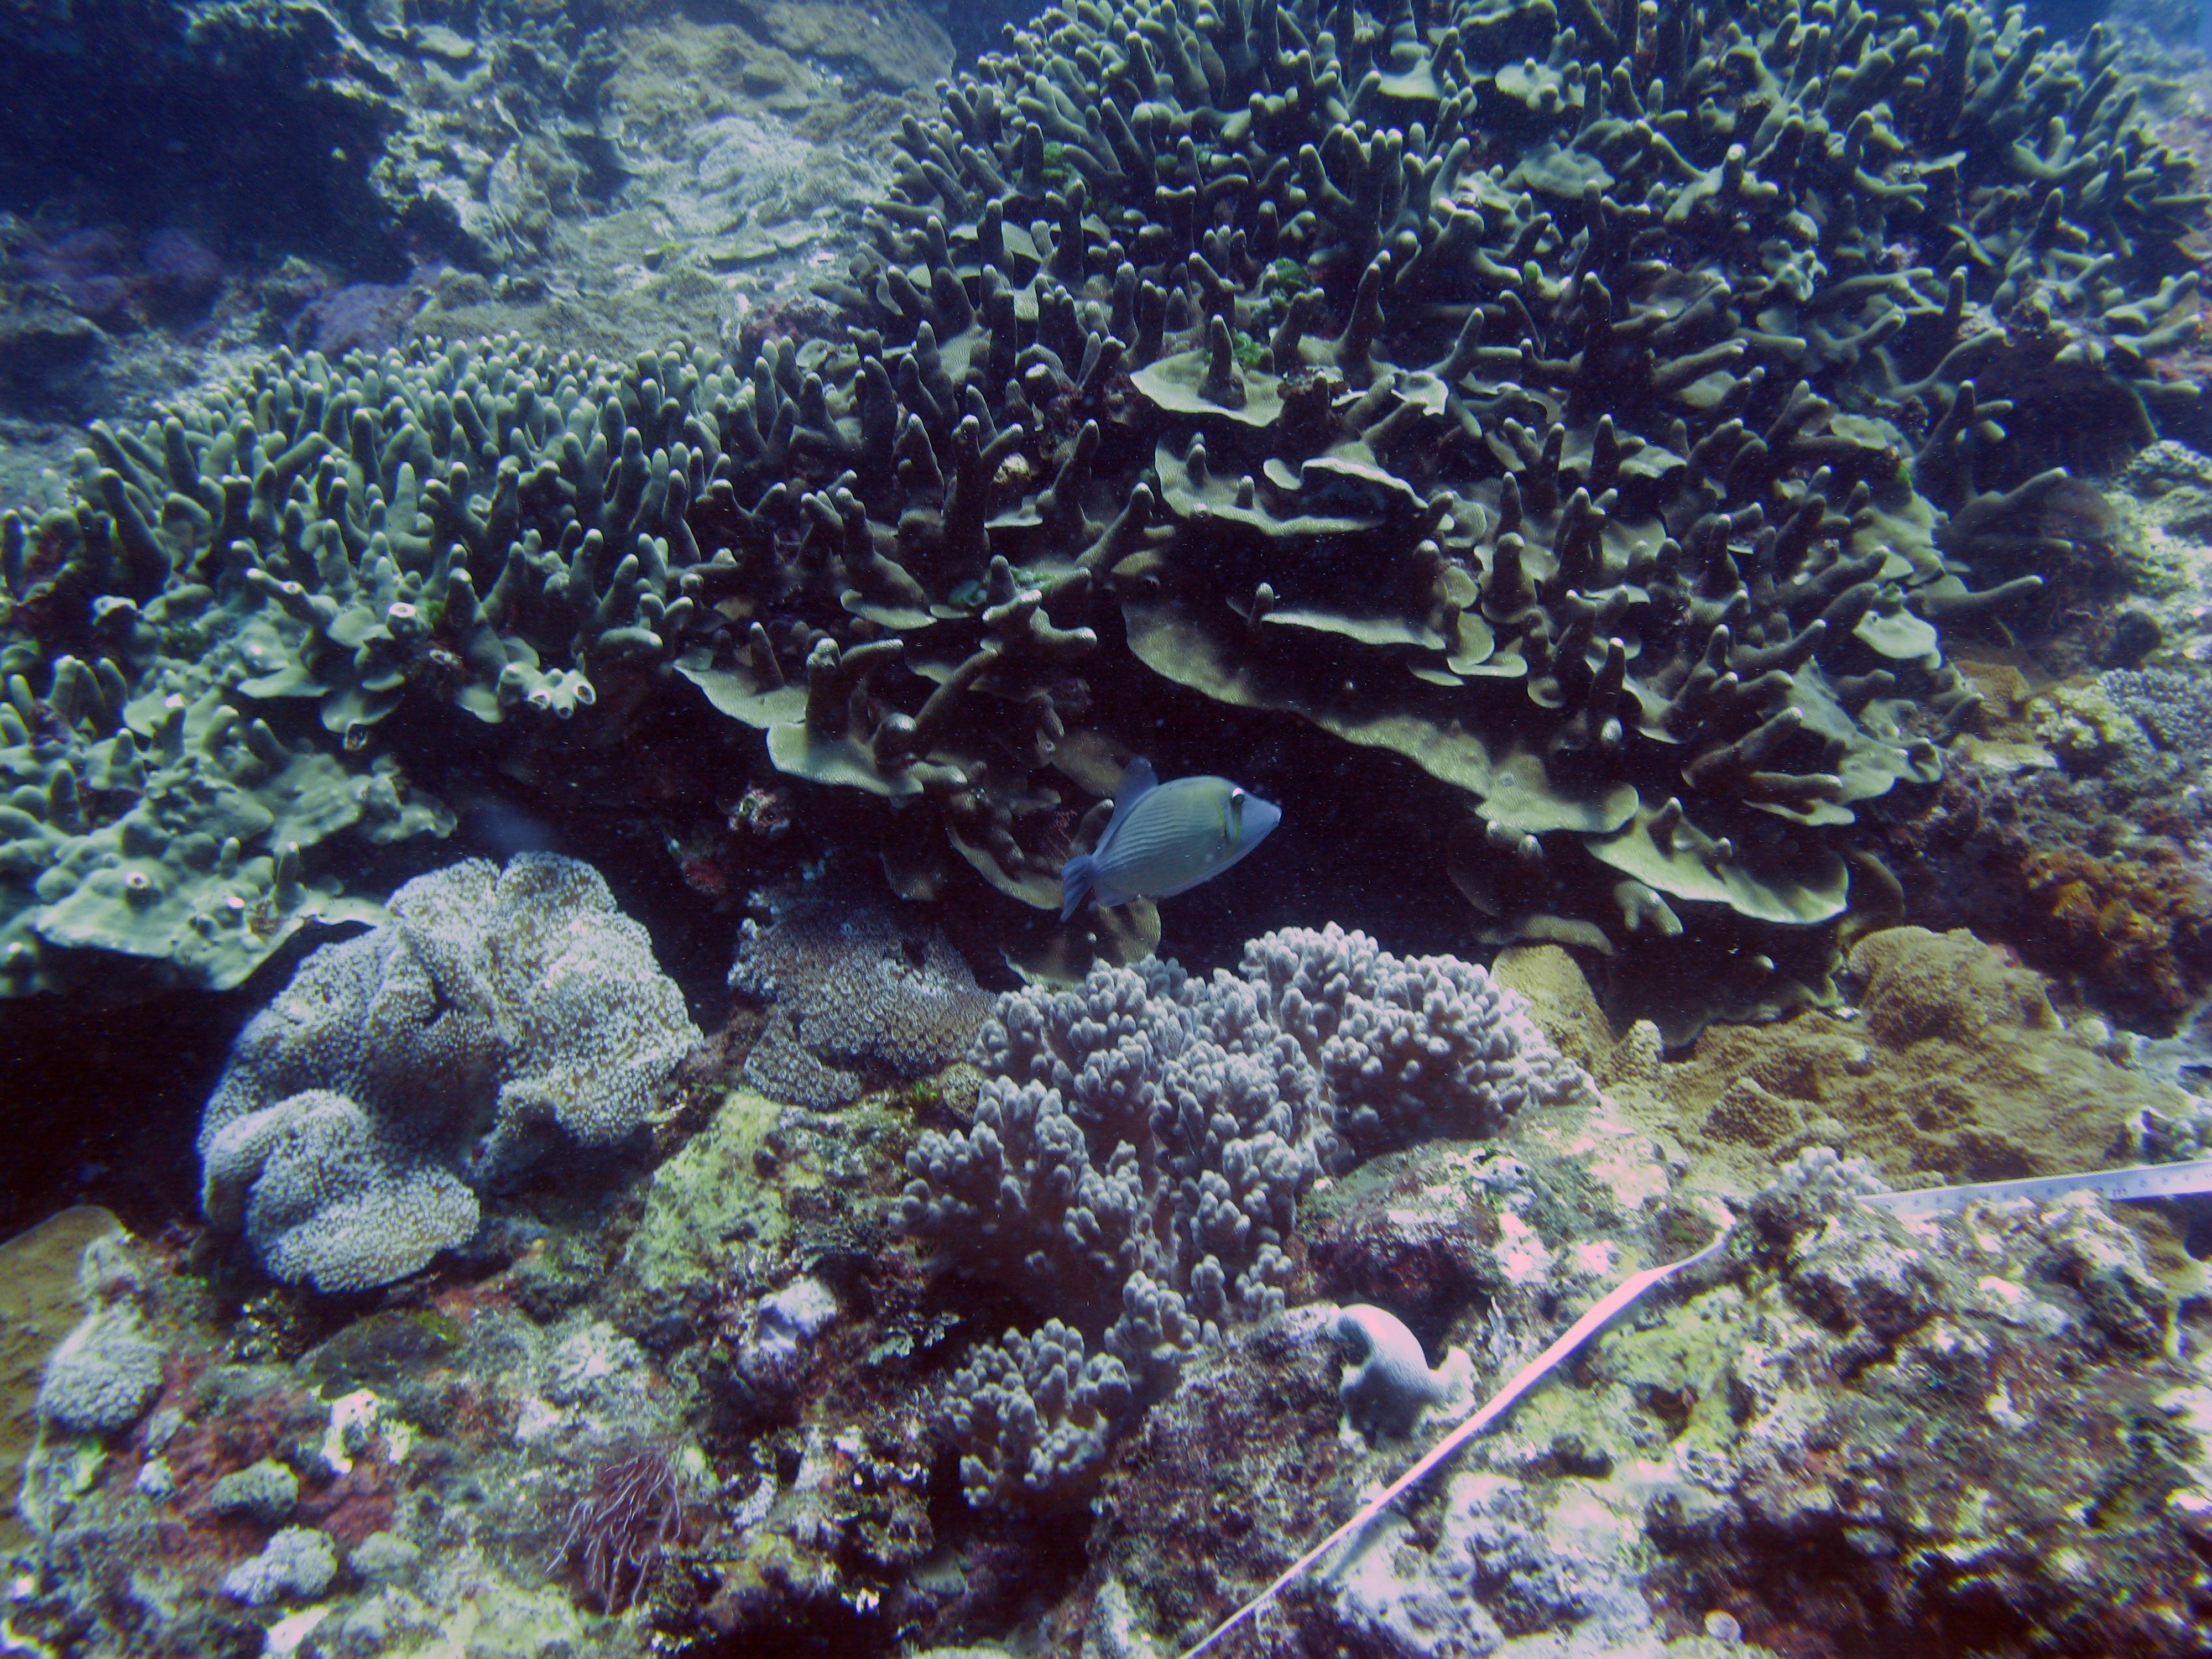Fish: (932, 680, 1493, 1000)
